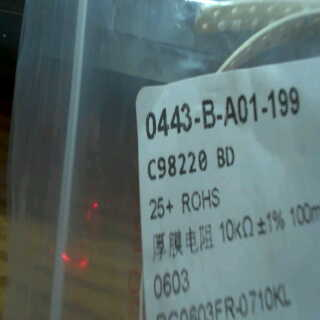10kR: (217, 212, 255, 243)
